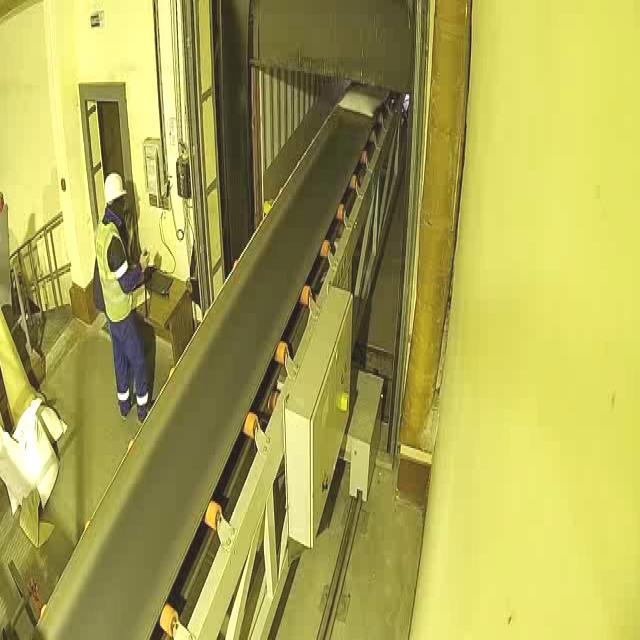bag: (340, 88, 390, 119)
